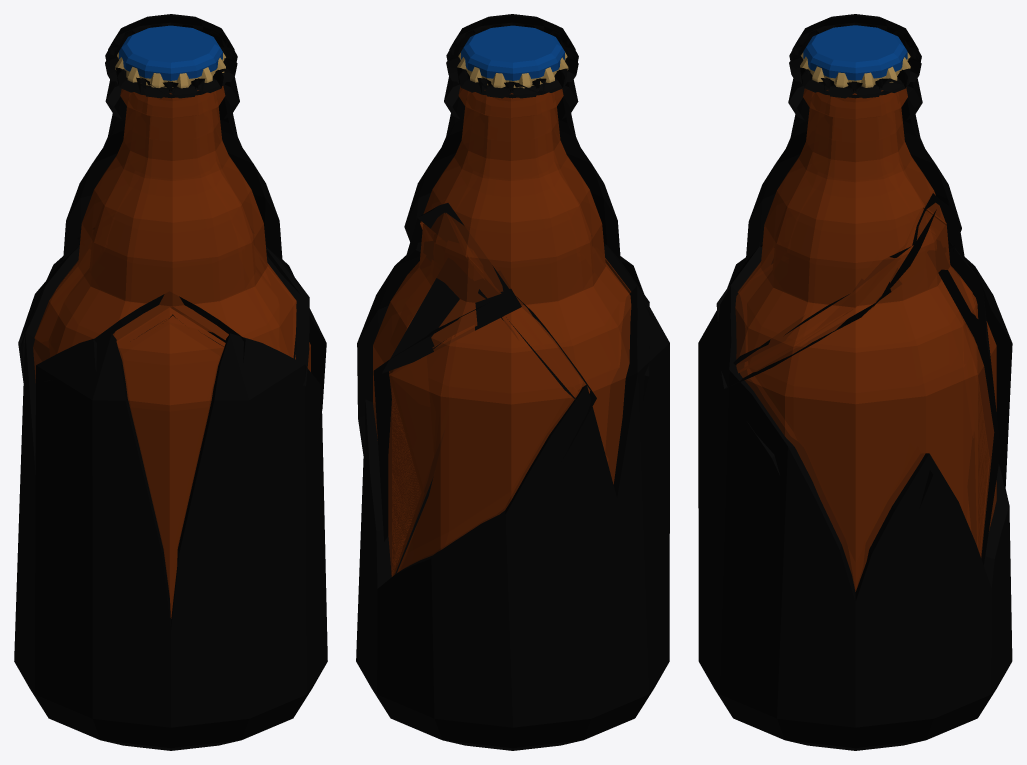
Rendered from efesPieces.fbx.
3 renders of one model, left to right at view 1: azimuth 30°, elevation 25°; view 2: azimuth 150°, elevation 25°; view 3: azimuth 270°, elevation 25°, orthographic.
Visible parts, largest first — view 1: polySurface12, polySurface6, polySurface8, polySurface13, polySurface19, polySurface18, polySurface11, polySurface14, polySurface9; view 2: polySurface12, polySurface6, polySurface10, polySurface9, polySurface14, polySurface13, polySurface19, polySurface18, polySurface15; view 3: polySurface12, polySurface9, polySurface6, polySurface14, polySurface13, polySurface19, polySurface18, polySurface15, polySurface10.
Boxes of the visible parts, left/top/right/bottom form: polySurface12: left=14, top=332, right=327, bottom=750; polySurface6: left=33, top=86, right=296, bottom=382; polySurface8: left=116, top=307, right=225, bottom=618; polySurface13: left=18, top=29, right=309, bottom=392; polySurface19: left=115, top=25, right=225, bottom=88; polySurface18: left=105, top=14, right=237, bottom=98; polySurface11: left=93, top=292, right=245, bottom=371; polySurface14: left=77, top=229, right=326, bottom=421; polySurface9: left=90, top=247, right=310, bottom=371; polySurface12: left=356, top=285, right=669, bottom=750; polySurface6: left=420, top=86, right=631, bottom=484; polySurface10: left=389, top=311, right=578, bottom=575; polySurface9: left=373, top=212, right=501, bottom=576; polySurface14: left=357, top=203, right=521, bottom=574; polySurface13: left=404, top=29, right=649, bottom=404; polySurface19: left=457, top=25, right=568, bottom=88; polySurface18: left=446, top=14, right=578, bottom=98; polySurface15: left=373, top=296, right=596, bottom=541; polySurface12: left=698, top=286, right=1012, bottom=750; polySurface9: left=740, top=206, right=989, bottom=591; polySurface6: left=735, top=87, right=946, bottom=373; polySurface14: left=721, top=193, right=1000, bottom=565; polySurface13: left=716, top=37, right=961, bottom=388; polySurface19: left=800, top=25, right=910, bottom=87; polySurface18: left=789, top=14, right=921, bottom=98; polySurface15: left=964, top=257, right=1012, bottom=492; polySurface10: left=962, top=281, right=996, bottom=557.
Size of the model in its own units: 0.8496 by 2.02 by 0.8503.
